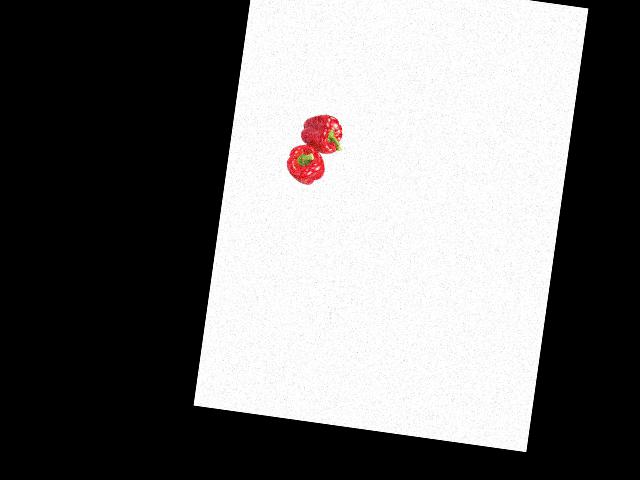bell_pepper: (295, 110, 347, 157)
